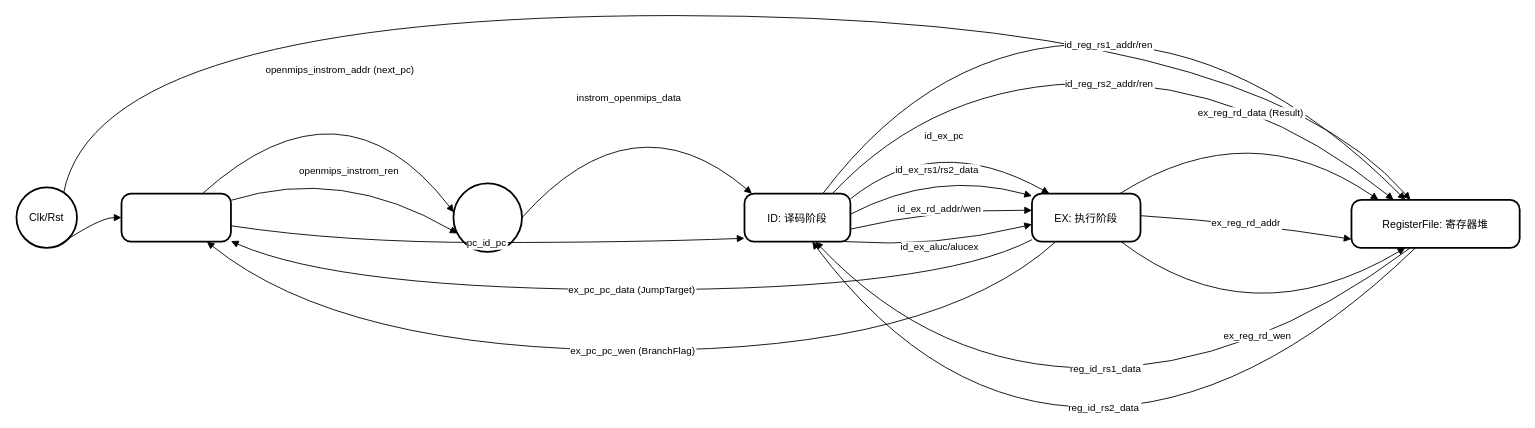
Image size: 1535x428. Some labels were removed from this diagram. The shapes that lost their labels are listed below. From the top down, each one's centre as x and y in pixels, then its label:
(175,217): PC: 取指阶段
(487,217): Inst ROM
